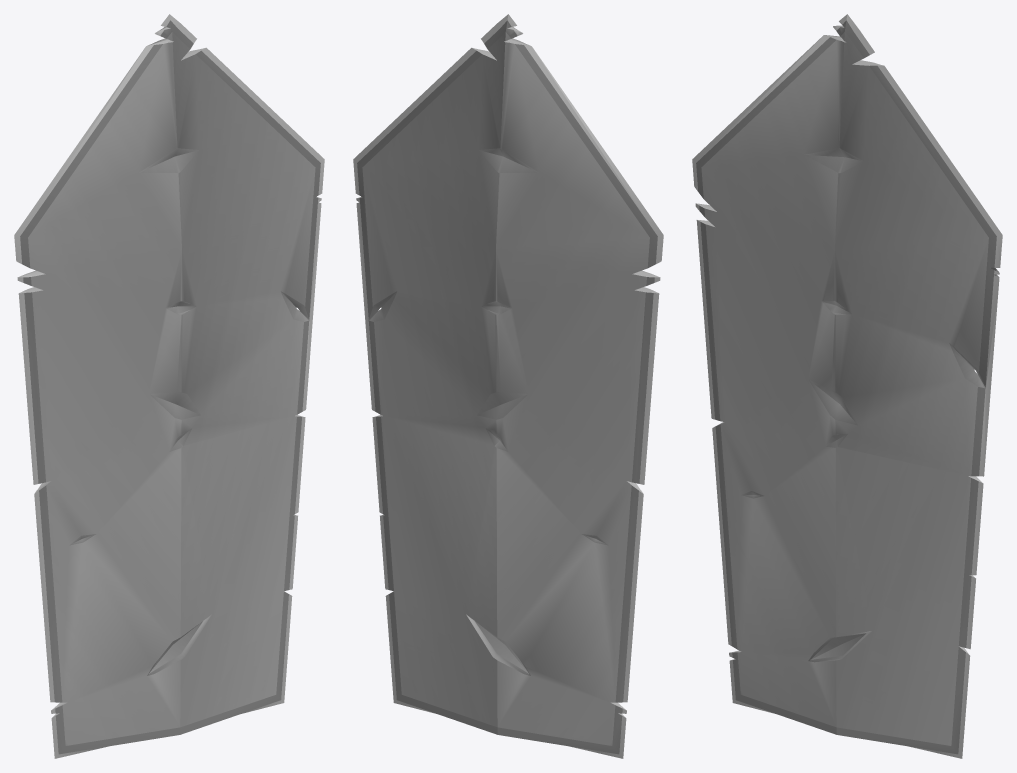
Rendered from stone_blade_scratched_042.glb.
The picture shows the model from 3 angles, left to right: view 1: azimuth 30°, elevation 25°; view 2: azimuth 150°, elevation 25°; view 3: azimuth 330°, elevation 25°; orthographic projection.
Parts seen in each view (by area): view 1: stone_blade_scratched.042; view 2: stone_blade_scratched.042; view 3: stone_blade_scratched.042.
Boxes of the visible parts, bbox=[...] form: stone_blade_scratched.042: bbox=[14, 14, 324, 758]; stone_blade_scratched.042: bbox=[353, 14, 663, 758]; stone_blade_scratched.042: bbox=[692, 14, 1002, 758].
Size of the model in its own units: 5.17 by 11.43 by 0.7262.
1 material, 1 textured.
